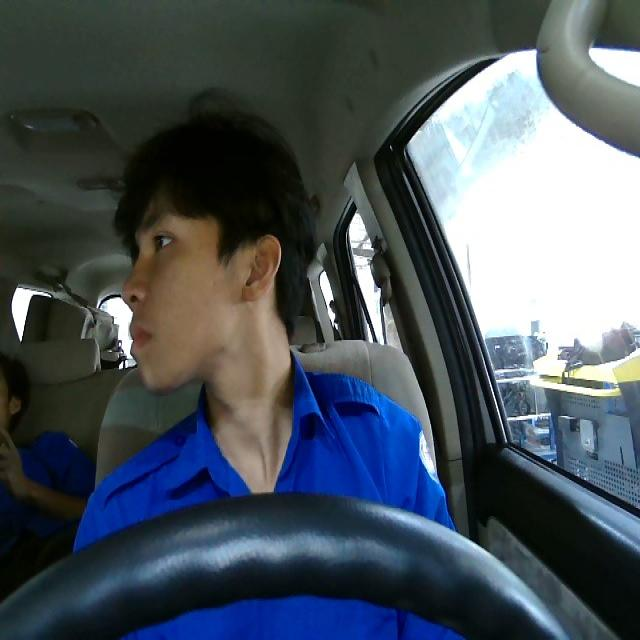seeing_left: (120, 177, 281, 396)
